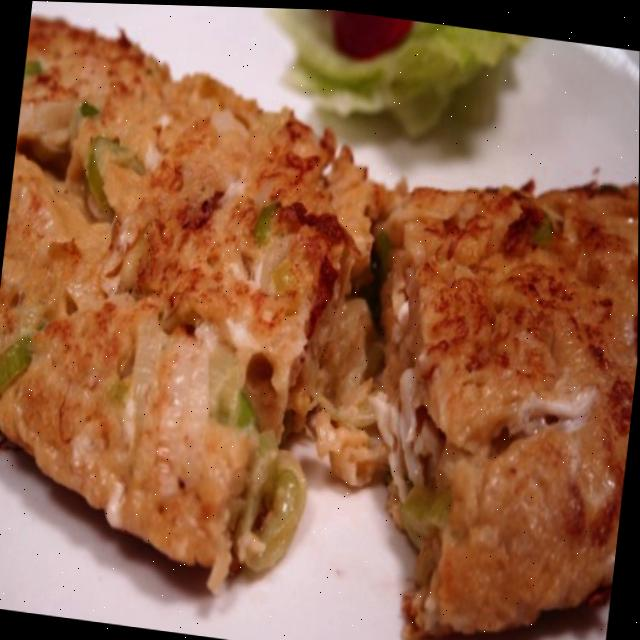鸡蛋料理: (0, 2, 640, 640)
